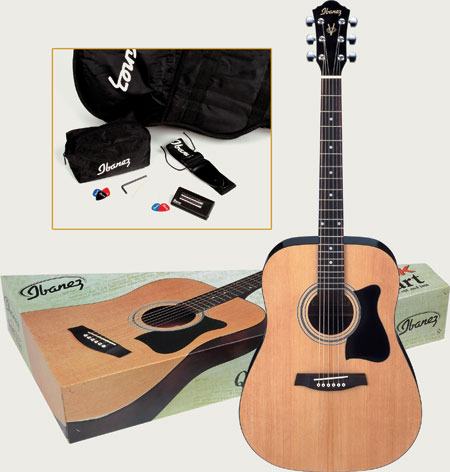guitar: (238, 3, 427, 472), (21, 268, 281, 430)
